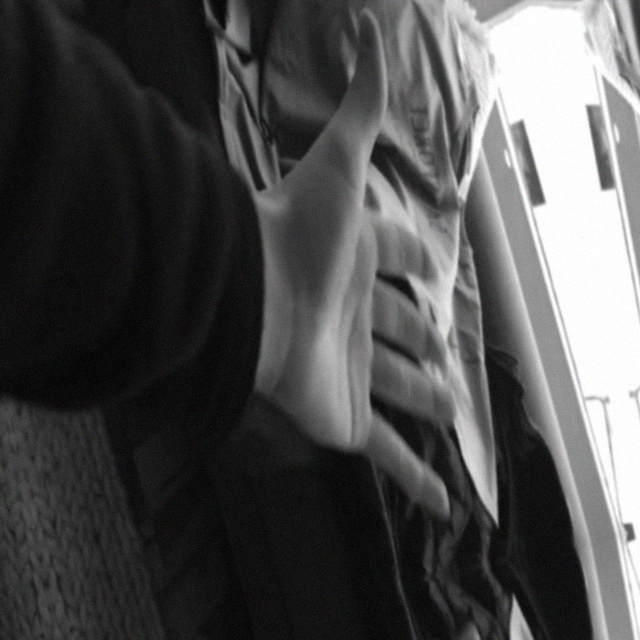Paper: (208, 0, 491, 539)
